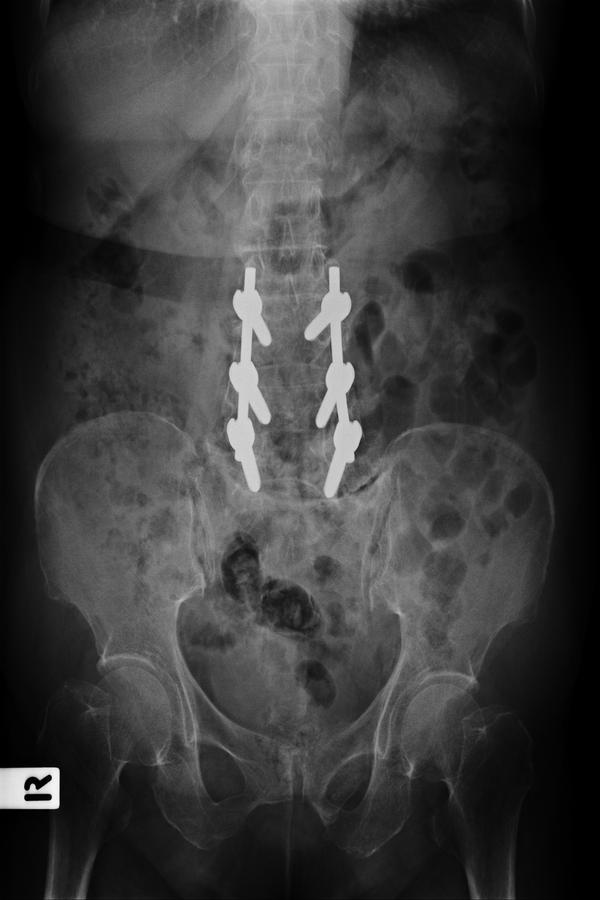not lumbar scoliosis: (232, 164, 344, 506)
